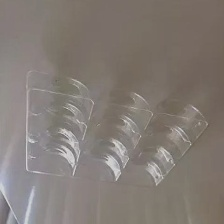plastic_box: (15, 65, 212, 196)
